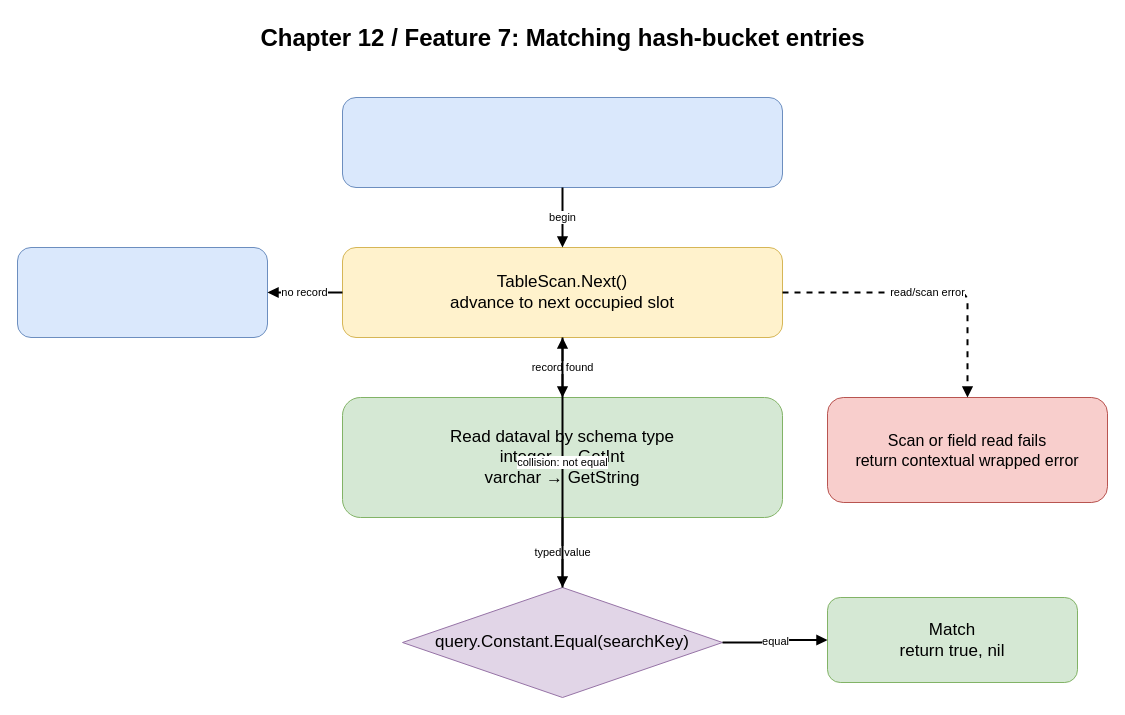
This 1125x715 diagram has some shape labels left out. Each missing label, with the centre of its shape:
"Bucket exhausted return false, nil" belongs at point 142,292.
"Positioned HashIndex scan + search key + dataval schema" belongs at point 562,142.
